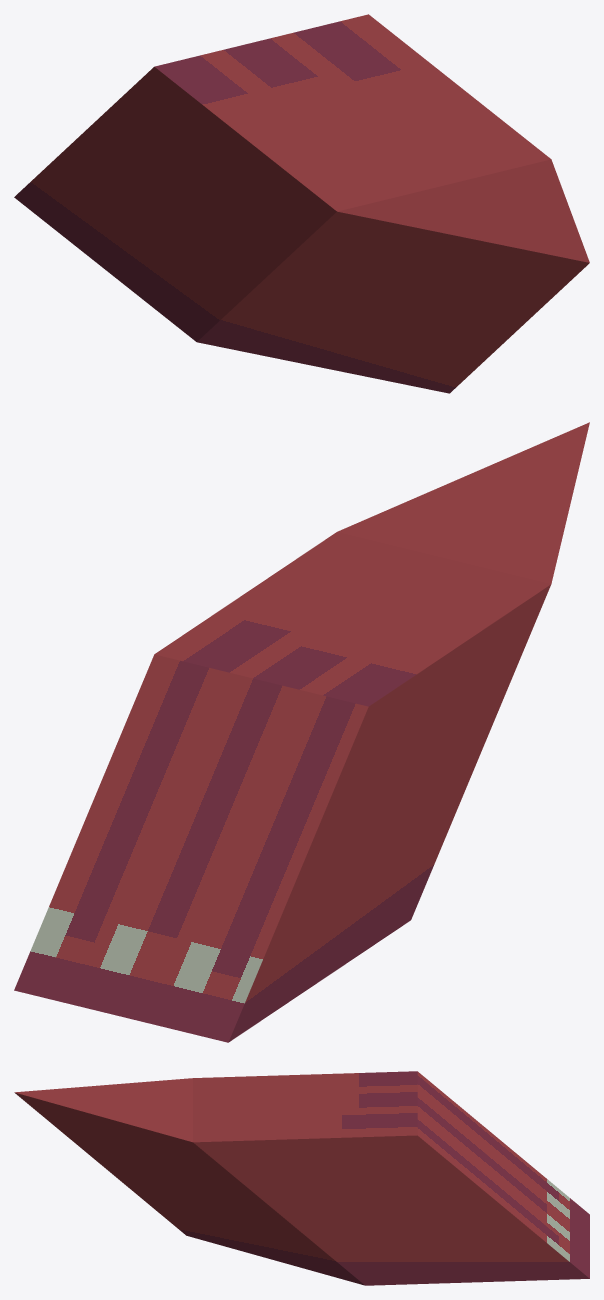
File: rat_foot.glb
3 renders of one model, top to bottom at view 1: azimuth 30°, elevation 25°; view 2: azimuth 150°, elevation 25°; view 3: azimuth 270°, elevation 25°, orthographic. The views are drawn at different scales.
Visible parts, largest first — view 1: Cube.137; view 2: Cube.137; view 3: Cube.137.
Boxes of the visible parts, bbox=[...] form: Cube.137: bbox=[14, 14, 589, 393]; Cube.137: bbox=[14, 422, 589, 1042]; Cube.137: bbox=[14, 1071, 589, 1285].
Bounding box in the file's own units: 0.7749 × 0.9069 × 2.94.
1 material, 1 textured.
